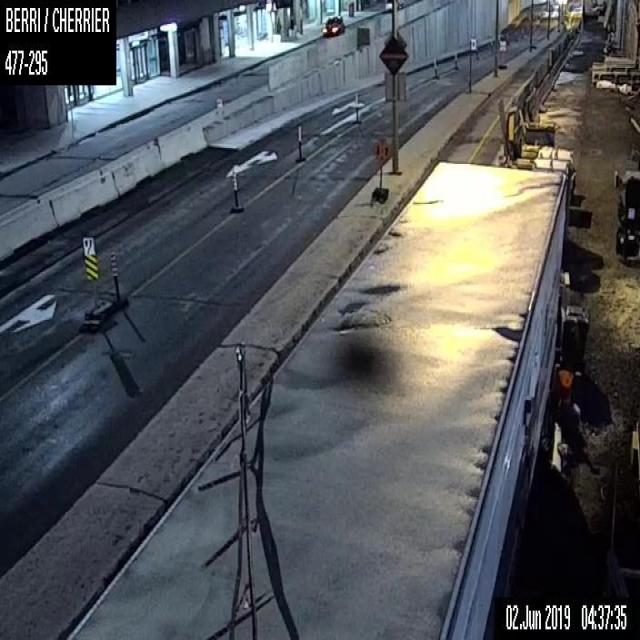construction: (371, 136, 390, 200), (110, 250, 119, 302), (232, 164, 238, 205), (297, 122, 302, 158), (354, 92, 358, 121), (432, 55, 436, 76), (453, 50, 456, 66), (475, 45, 478, 60)
vehicle: (613, 168, 639, 262), (322, 14, 342, 36)
